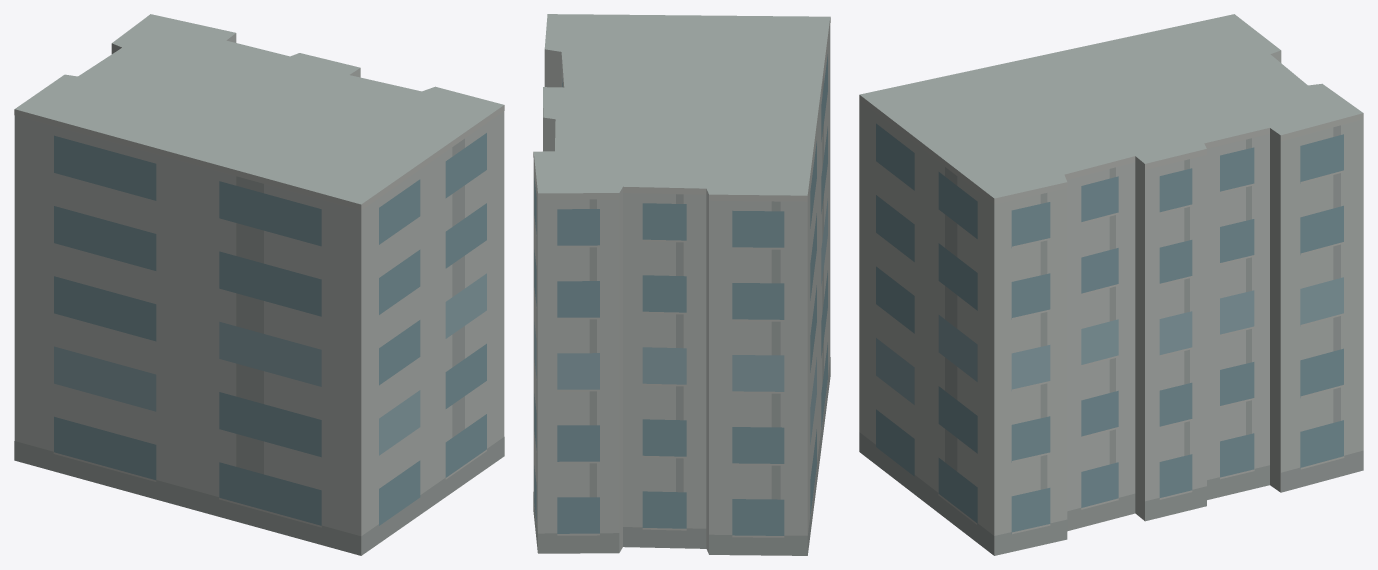
The model's file is survey-upis-32882501.glb.
3 renders of one model, left to right at view 1: azimuth 30°, elevation 25°; view 2: azimuth 150°, elevation 25°; view 3: azimuth 270°, elevation 25°, orthographic. The views are drawn at different scales.
Visible parts, largest first — view 1: survey-upis-32882501.tmp; view 2: survey-upis-32882501.tmp; view 3: survey-upis-32882501.tmp.
Part boxes in pixels (bbox=[...]): survey-upis-32882501.tmp: bbox=[14, 14, 504, 555]; survey-upis-32882501.tmp: bbox=[533, 14, 830, 555]; survey-upis-32882501.tmp: bbox=[859, 14, 1363, 555].
Bounding box in the file's own units: 15.7 × 14.17 × 18.13.
